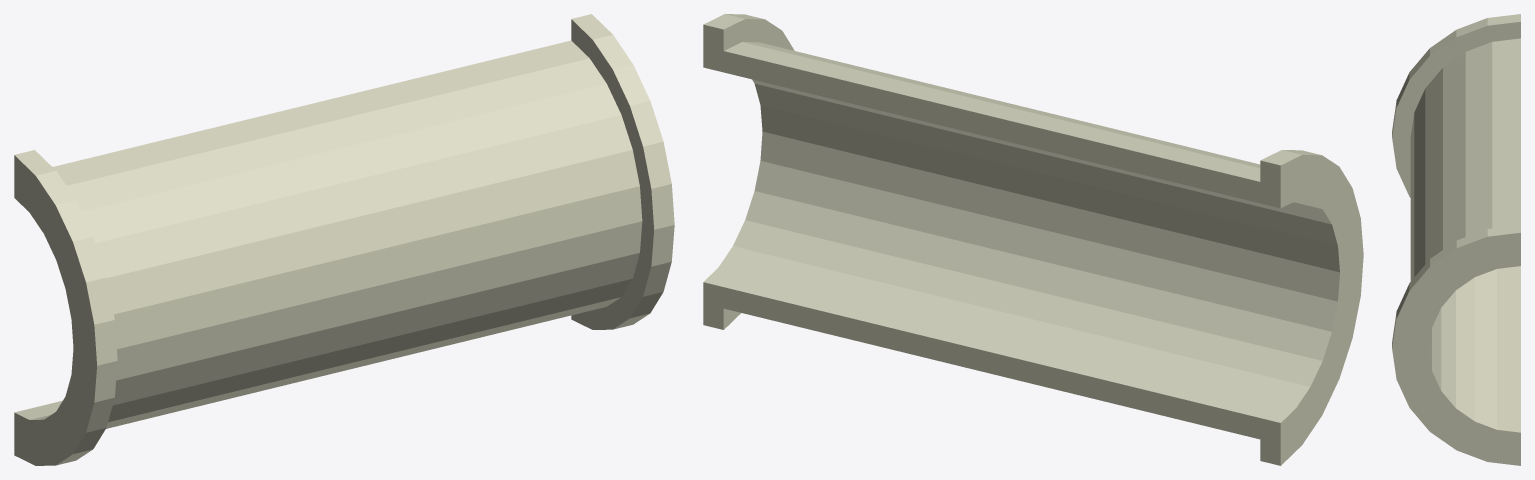
File: section_419.obj
3 renders of one model, left to right at view 1: azimuth 30°, elevation 25°; view 2: azimuth 150°, elevation 25°; view 3: azimuth 270°, elevation 25°, orthographic. The views are drawn at different scales.
Bounding box in the file's own units: 28.16 × 14 × 7.
